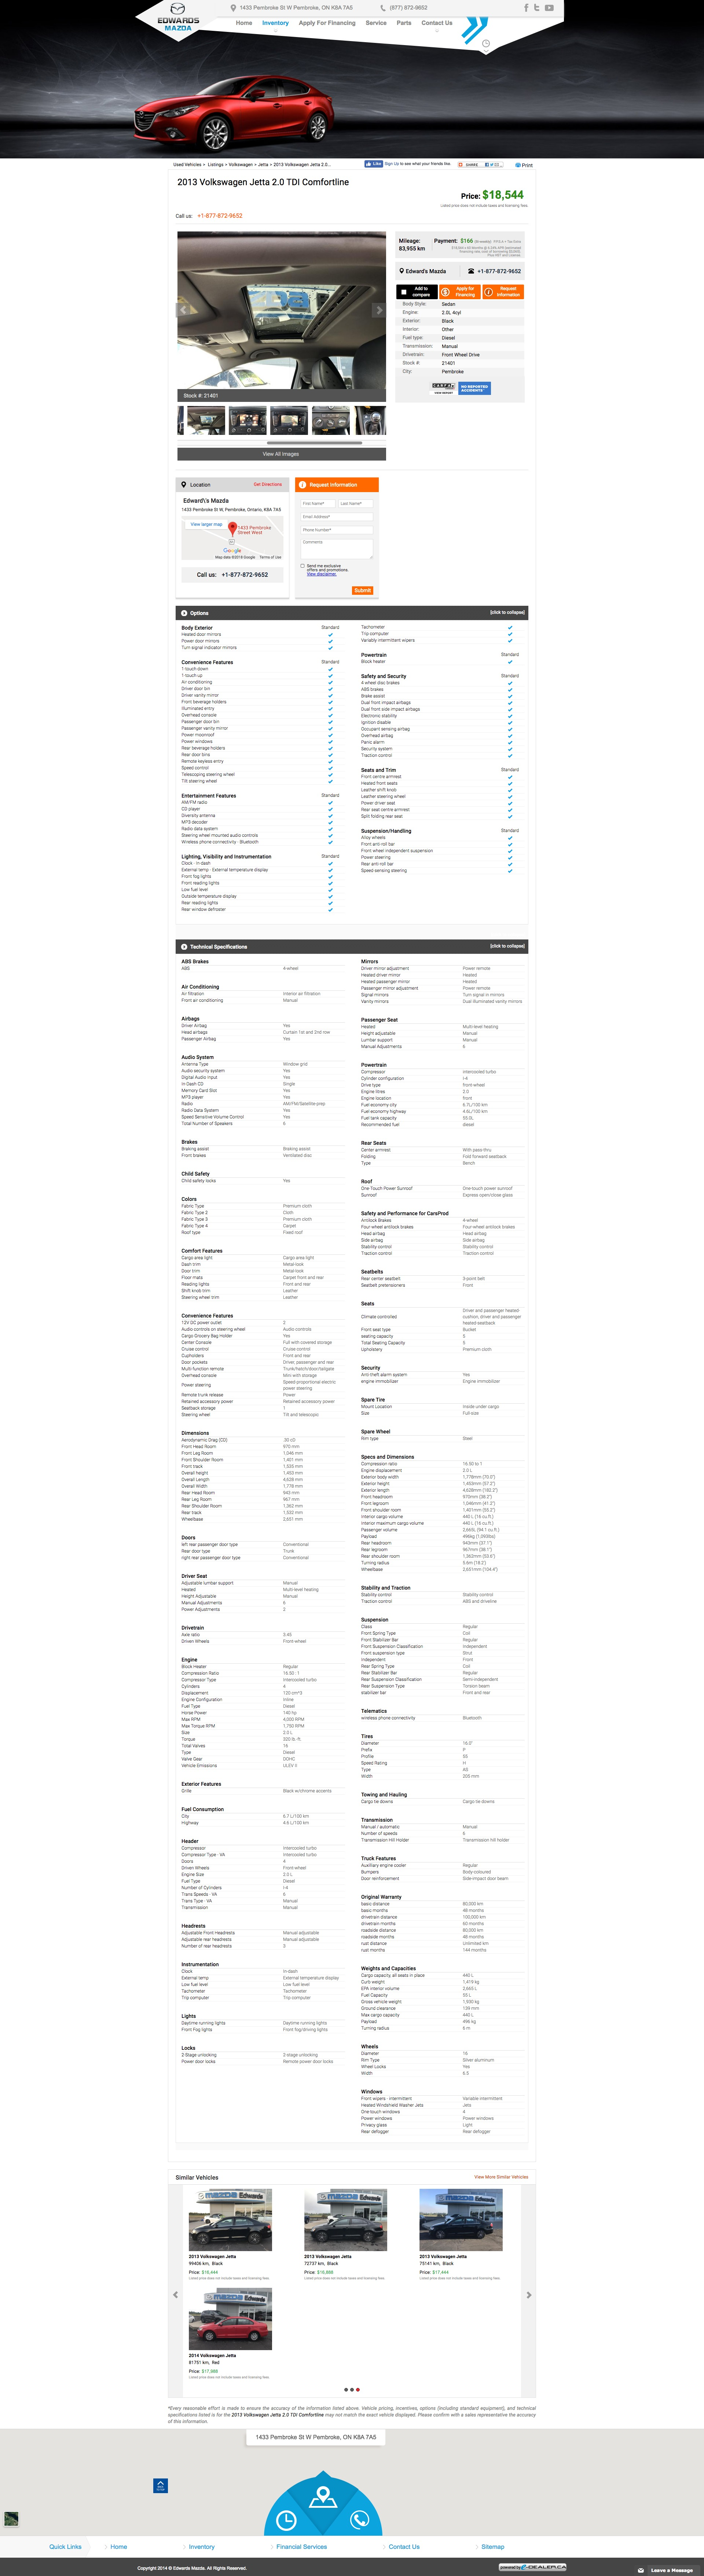car: (377, 306, 382, 315)
